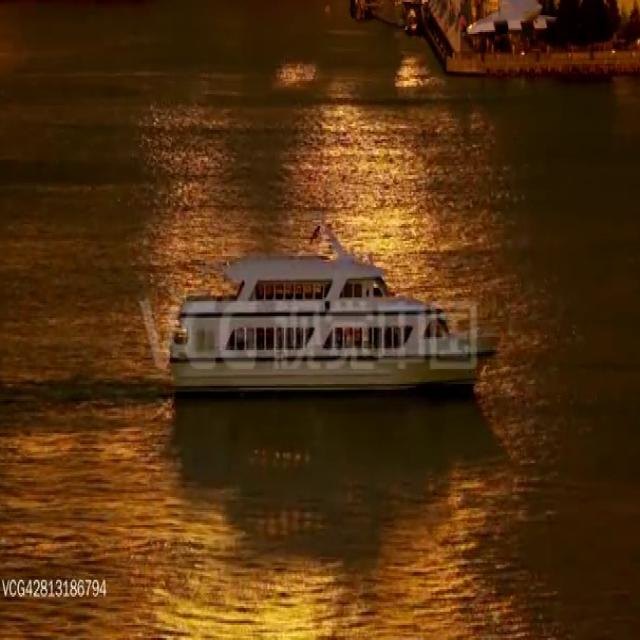passenger ship: (164, 242, 481, 398)
